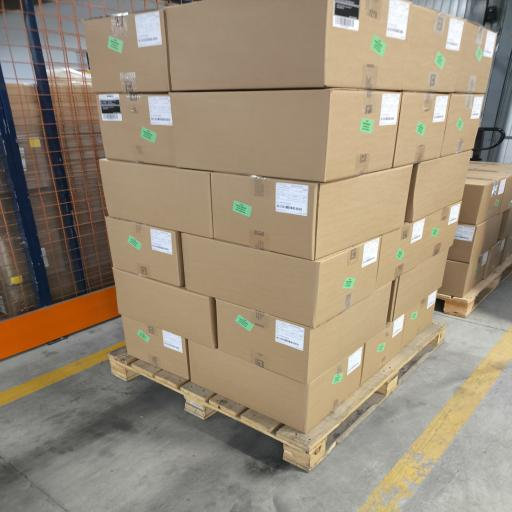pallet: (110, 321, 447, 471), (437, 256, 511, 317)
